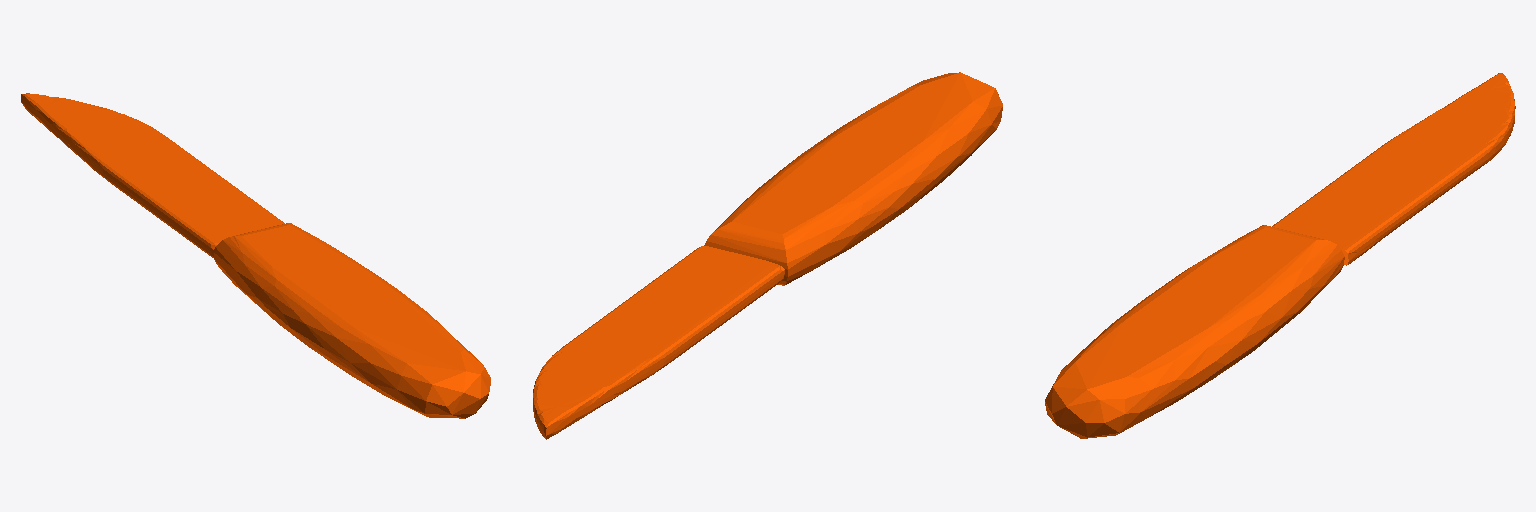
The robot description file, URDF, robot "Knife_115":
<?xml version="1.0" ?>
<robot name="Knife_115">
   <material name="obj_color">
      <color rgba="1.0 0.423529411765 0.0392156862745 1.0"/>
   </material>
   <link name="top">
      <inertial>
         <origin rpy="2.535790495955201e-05 0.0003172916917017286 0.0003337066267004211" xyz="0.0002671835330141469 -0.05128947081679563 0.0004512768803177595"/>
         <mass value="0.1413962908495794"/>
         <inertia ixx="0.0003172916857878058" ixy="-4.16557953406649e-08" ixz="7.018819835374795e-10" iyy="2.535791113290683e-05" iyz="8.412577248606008e-09" izz="0.0003337066264409891"/>
      </inertial>
      <visual>
         <origin rpy="0 0 0" xyz="0 0 0"/>
         <geometry>
            <mesh filename="top_watertight_tiny.stl" scale="1 1 1"/>
         </geometry>
         <material name="obj_color"/>
      </visual>
      <collision>
         <origin rpy="0 0 0" xyz="0 0 0"/>
         <geometry>
            <mesh filename="top_watertight_tiny.obj" scale="1 1 1"/>
         </geometry>
      </collision>
   </link>
   <link name="bottom">
      <inertial>
         <origin rpy="3.970863512999196e-06 7.258158001757222e-05 7.627891679226517e-05" xyz="0.0006672105172619374 0.1103664320003262 0.0002460107015649329"/>
         <mass value="0.0365604504902144"/>
         <inertia ixx="7.255693453648886e-05" ixy="1.300131426367173e-06" ixz="-4.748425278216337e-10" iyy="3.995509144585092e-06" iyz="-2.375610382555107e-09" izz="7.627891664176262e-05"/>
      </inertial>
      <visual>
         <origin rpy="0 0 0" xyz="0 0 0"/>
         <geometry>
            <mesh filename="bottom_watertight_tiny.stl" scale="1 1 1"/>
         </geometry>
         <material name="obj_color"/>
      </visual>
      <collision>
         <origin rpy="0 0 0" xyz="0 0 0"/>
         <geometry>
            <mesh filename="bottom_watertight_tiny.obj" scale="1 1 1"/>
         </geometry>
      </collision>
   </link>
   <joint name="rotation" type="revolute">
      <origin xyz="0 0 0"/>
      <axis xyz="0 0 -1"/>
      <parent link="bottom"/>
      <child link="top"/>
      <dynamics damping="1.0" friction="1.0"/>
      <limit effort="0.1" velocity="0.1" lower="0" upper="0.001"/>
   </joint>
</robot>

--- What the picture shows (computed from the rendered views, not written in the file) ---
The picture shows the robot from 3 angles, left to right: view 1: azimuth 30°, elevation 25°; view 2: azimuth 150°, elevation 25°; view 3: azimuth 330°, elevation 25°; orthographic projection.
Model Knife_115 with 2 links and 1 joints (1 revolute), rooted at bottom, posed every joint at zero.
Links seen in each view (by area): view 1: top, bottom; view 2: top, bottom; view 3: top, bottom.
Link boxes in pixels (x1,y1,x2,y2): top: (214, 223, 490, 418); bottom: (21, 93, 284, 257); top: (704, 72, 1002, 285); bottom: (533, 246, 784, 439); top: (1045, 225, 1344, 438); bottom: (1272, 73, 1515, 265).
Bounding box of the posed robot: 0.0497 × 0.3495 × 0.0213 m (x, y, z).
2 mesh visuals loaded from 2 distinct referenced files (2 binary STL).